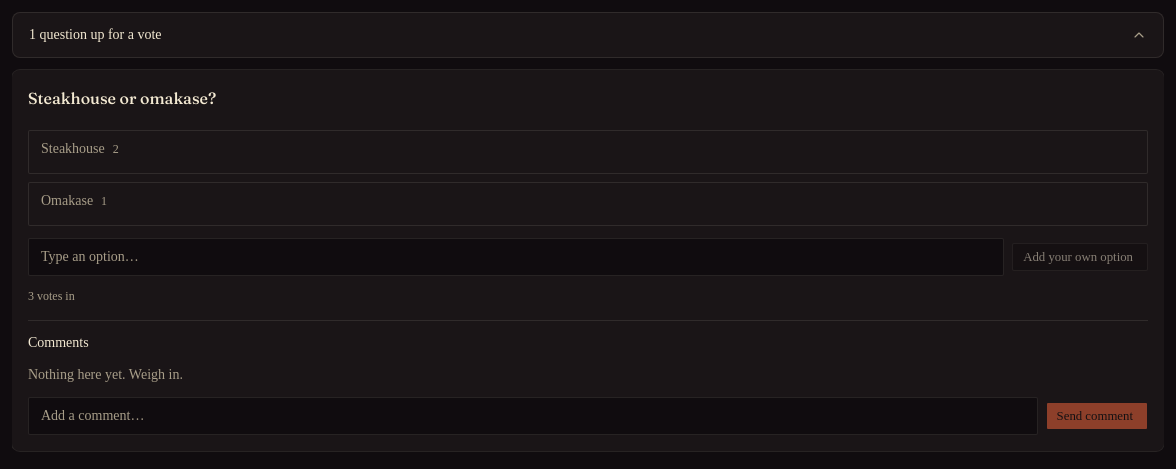
it: PollsDisclosure › can still be collapsed by the user even when a poll is open (#622 — toggle preserved)
This screenshot has width=1176, height=469.
Click the button "1 question up for a vote": (95, 34) [12,12,1164,58]
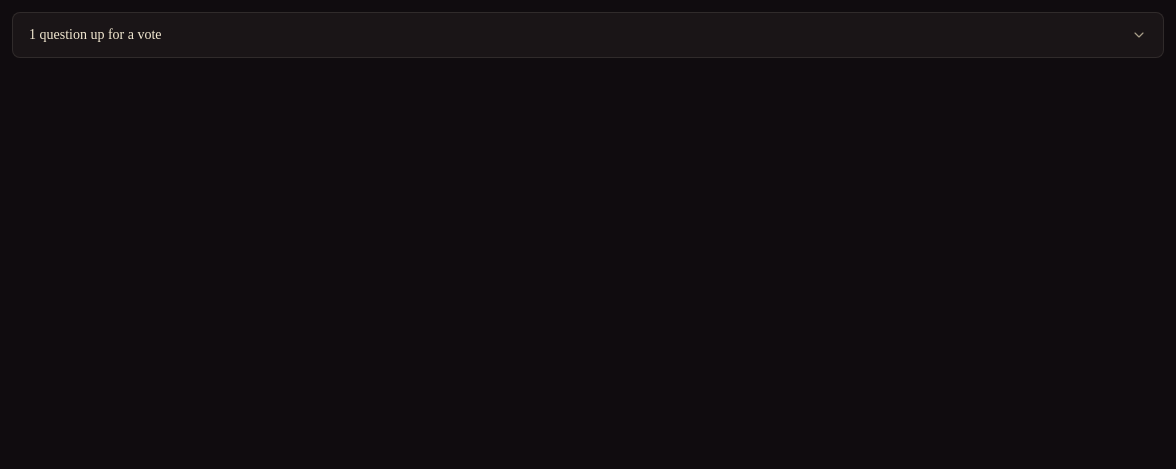
Expected: the text "Steakhouse or omakase?" is gone
